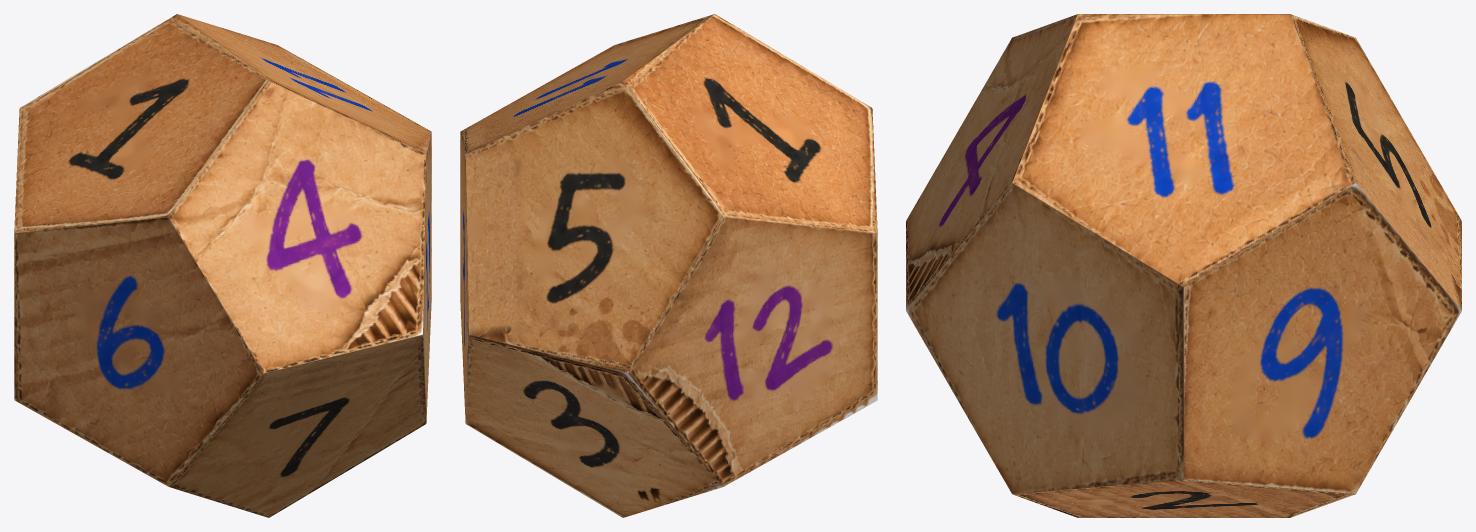
The model's file is Cardboard_D12_Raised_Rolls_Varied_Tape.glb.
3 views of the same model, side by side, from view 1: azimuth 30°, elevation 25°; view 2: azimuth 150°, elevation 25°; view 3: azimuth 270°, elevation 25° (orthographic). The views are drawn at different scales.
Visible parts, largest first — view 1: Cardboard_Face_04, Cardboard_Face_06, Cardboard_Face_01, Cardboard_Face_07, Cardboard_Face_11, Cardboard_Face_10, Solid_Dodecahedron_Core; view 2: Cardboard_Face_05, Cardboard_Face_12, Cardboard_Face_01, Cardboard_Face_03, Cardboard_Face_11, Cardboard_Face_09, Solid_Dodecahedron_Core; view 3: Cardboard_Face_11, Cardboard_Face_10, Cardboard_Face_09, Cardboard_Face_05, Cardboard_Face_04, Cardboard_Face_02, Solid_Dodecahedron_Core.
Boxes of the visible parts, bbox=[...] form: Cardboard_Face_04: bbox=[169, 81, 426, 373]; Cardboard_Face_06: bbox=[14, 217, 263, 486]; Cardboard_Face_01: bbox=[14, 14, 268, 233]; Cardboard_Face_07: bbox=[169, 335, 426, 517]; Cardboard_Face_11: bbox=[178, 14, 431, 153]; Cardboard_Face_10: bbox=[423, 133, 431, 422]; Solid_Dodecahedron_Core: bbox=[15, 15, 431, 485]; Cardboard_Face_05: bbox=[465, 81, 722, 373]; Cardboard_Face_12: bbox=[628, 217, 877, 486]; Cardboard_Face_01: bbox=[623, 14, 877, 233]; Cardboard_Face_03: bbox=[465, 335, 722, 517]; Cardboard_Face_11: bbox=[460, 14, 713, 153]; Cardboard_Face_09: bbox=[460, 133, 468, 422]; Solid_Dodecahedron_Core: bbox=[460, 15, 876, 485]; Cardboard_Face_11: bbox=[1012, 14, 1355, 286]; Cardboard_Face_10: bbox=[906, 183, 1183, 493]; Cardboard_Face_09: bbox=[1184, 183, 1461, 493]; Cardboard_Face_05: bbox=[1290, 14, 1461, 309]; Cardboard_Face_04: bbox=[906, 14, 1077, 309]; Cardboard_Face_02: bbox=[1013, 480, 1354, 517]; Solid_Dodecahedron_Core: bbox=[906, 15, 1461, 494].
Size of what is drawn, in the model's own units: 1.87 by 1.87 by 1.87.
1 material, 1 textured.
